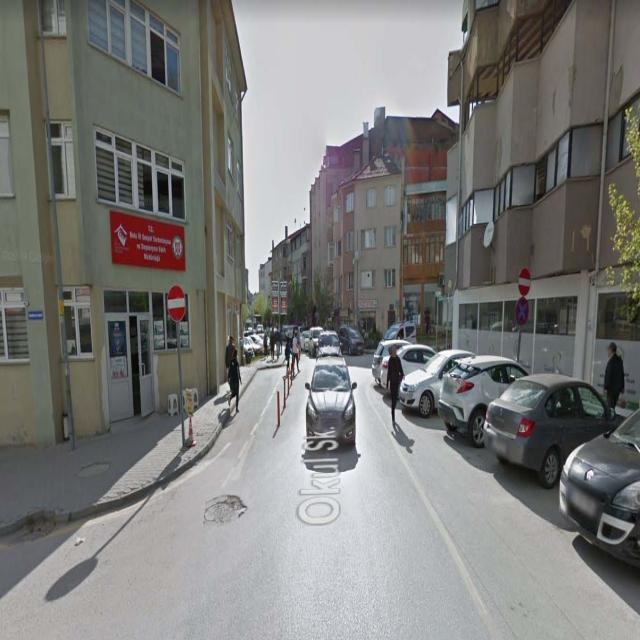girisyok: (166, 286, 186, 324), (519, 268, 532, 295)
